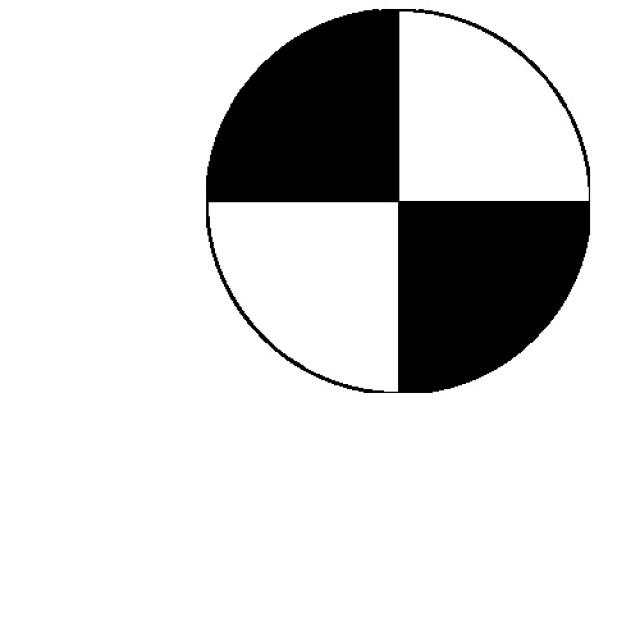Marcadores: (208, 7, 591, 393)
